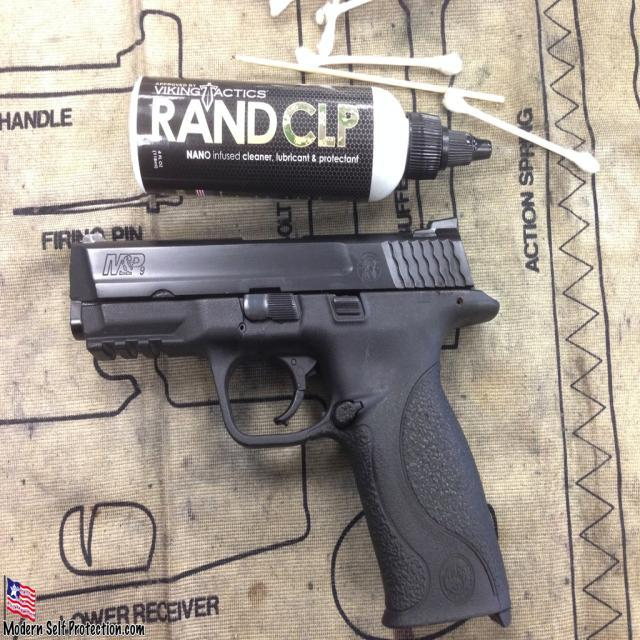Gun: (70, 219, 510, 628)
